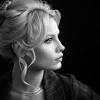without_mask: (12, 8, 66, 76)
